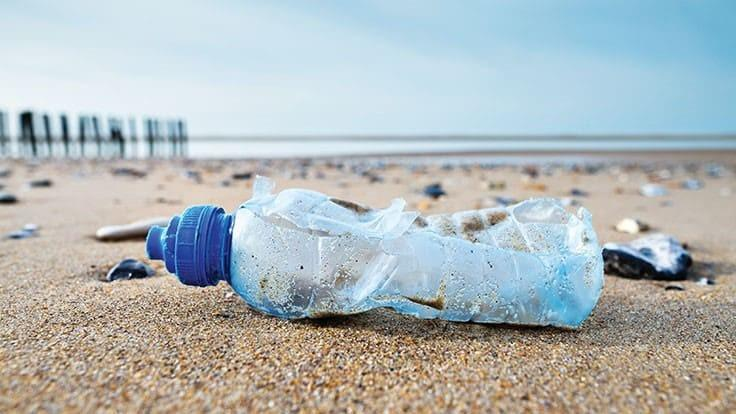bottle: (134, 175, 610, 328)
